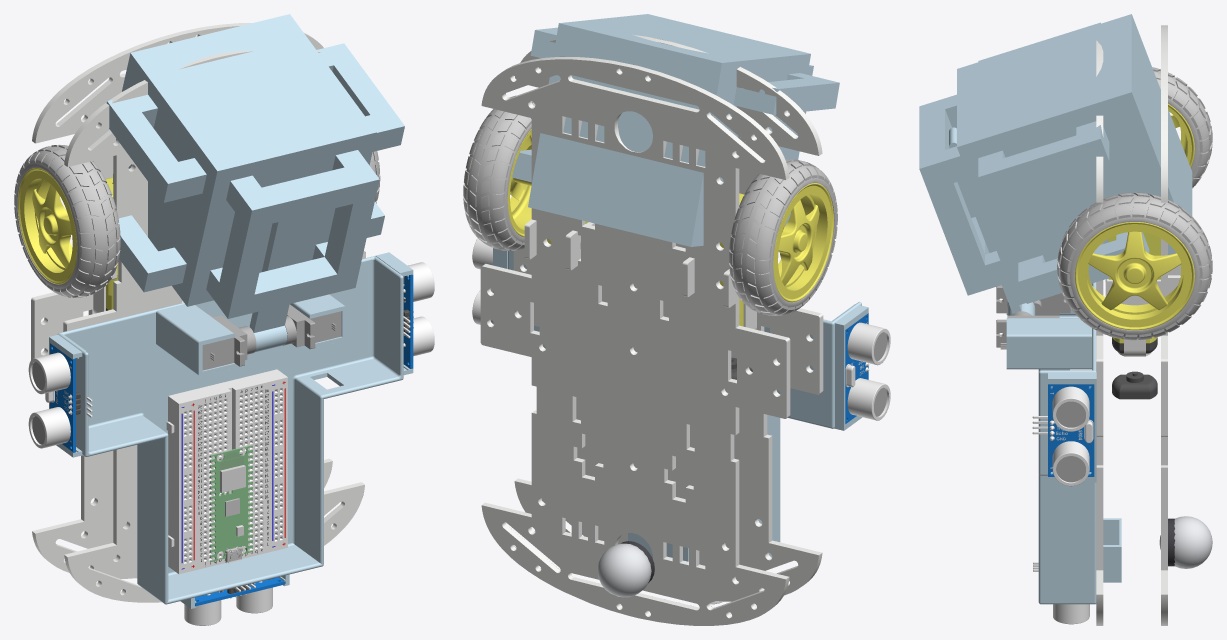
The model's file is robot.glb.
3 renders of one model, left to right at view 1: azimuth 30°, elevation 25°; view 2: azimuth 150°, elevation 25°; view 3: azimuth 270°, elevation 25°, orthographic. The views are drawn at different scales.
Parts seen in each view (by area): view 1: Part 1 (×9), buggy chassis orig v3:1__Solid1 (×2), HalfBreadboard, 4WD tyre:1__Solid1, 4WD buggy wheel v5_2__Solid1, MIUZEI_MS18_9G (×2), Part 4 (×3), RaspBerryPi Pico_CircuitBoard_logo v15, Part 2 (×3), Motor_Gear_Box v4:1__Solid2, RF_SHIELD_PICOW; view 2: buggy chassis orig v3:1__Solid1 (×2), Part 1 (×4), 4WD tyre:1__Solid1 (×2), 4WD buggy wheel v5_2__Solid1, Ball caster ball, Part 2, 4WD buggy wheel v5__Solid1, Part 4; view 3: Part 1 (×8), 4WD tyre:1__Solid1 (×2), 4WD buggy wheel v5__Solid1, buggy chassis orig v3:1__Solid1 (×2), Part 4, Ball caster ball, MIUZEI_MS18_9G (×2), Part 2, Motor_Gear_Box v4:1__Solid1, Motor_Gear_Box v4:1__Solid2, 4WD buggy wheel v5_2__Solid1, motor mount:1__Solid1.
Boxes of the visible parts, left/top/right/bottom form: Part 1 (×9): left=28, top=14, right=434, bottom=613; buggy chassis orig v3:1__Solid1 (×2): left=31, top=23, right=365, bottom=602; HalfBreadboard: left=166, top=370, right=287, bottom=574; 4WD tyre:1__Solid1: left=14, top=144, right=120, bottom=297; 4WD buggy wheel v5_2__Solid1: left=18, top=168, right=77, bottom=284; MIUZEI_MS18_9G (×2): left=202, top=304, right=341, bottom=370; Part 4 (×3): left=50, top=274, right=413, bottom=606; RaspBerryPi Pico_CircuitBoard_logo v15: left=210, top=445, right=252, bottom=561; Part 2 (×3): left=28, top=316, right=434, bottom=625; Motor_Gear_Box v4:1__Solid2: left=93, top=173, right=118, bottom=313; RF_SHIELD_PICOW: left=220, top=465, right=245, bottom=492; buggy chassis orig v3:1__Solid1 (×2): left=480, top=34, right=823, bottom=625; Part 1 (×4): left=508, top=14, right=890, bottom=557; 4WD tyre:1__Solid1 (×2): left=463, top=95, right=837, bottom=315; 4WD buggy wheel v5_2__Solid1: left=773, top=183, right=833, bottom=302; Ball caster ball: left=597, top=543, right=651, bottom=597; Part 2: left=847, top=322, right=890, bottom=365; 4WD buggy wheel v5__Solid1: left=467, top=129, right=531, bottom=237; Part 4: left=845, top=313, right=869, bottom=423; Part 1 (×8): left=919, top=14, right=1192, bottom=624; 4WD tyre:1__Solid1 (×2): left=1057, top=67, right=1212, bottom=340; 4WD buggy wheel v5__Solid1: left=1075, top=222, right=1194, bottom=330; buggy chassis orig v3:1__Solid1 (×2): left=1096, top=25, right=1167, bottom=625; Part 4: left=1032, top=384, right=1094, bottom=476; Ball caster ball: left=1159, top=516, right=1212, bottom=568; MIUZEI_MS18_9G (×2): left=996, top=285, right=1070, bottom=349; Part 2: left=1052, top=441, right=1089, bottom=486; Motor_Gear_Box v4:1__Solid1: left=1112, top=371, right=1157, bottom=399; Motor_Gear_Box v4:1__Solid2: left=1108, top=232, right=1160, bottom=356; 4WD buggy wheel v5_2__Solid1: left=1168, top=104, right=1194, bottom=167; motor mount:1__Solid1: left=1105, top=275, right=1180, bottom=305.
Bounding box in the file's own units: 0.1953 × 0.2654 × 0.1268.
